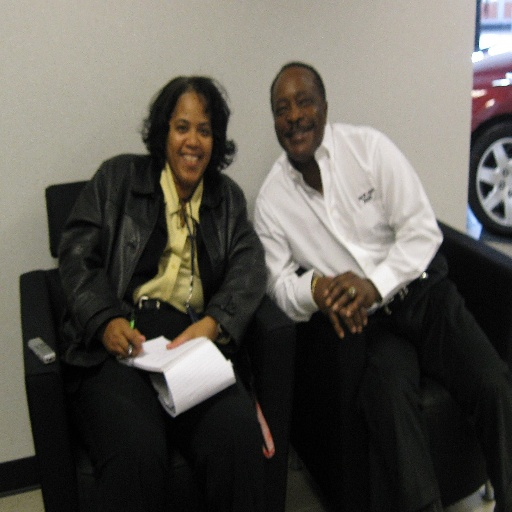hand: (323, 268, 379, 318), (103, 317, 144, 357), (165, 317, 219, 347)
